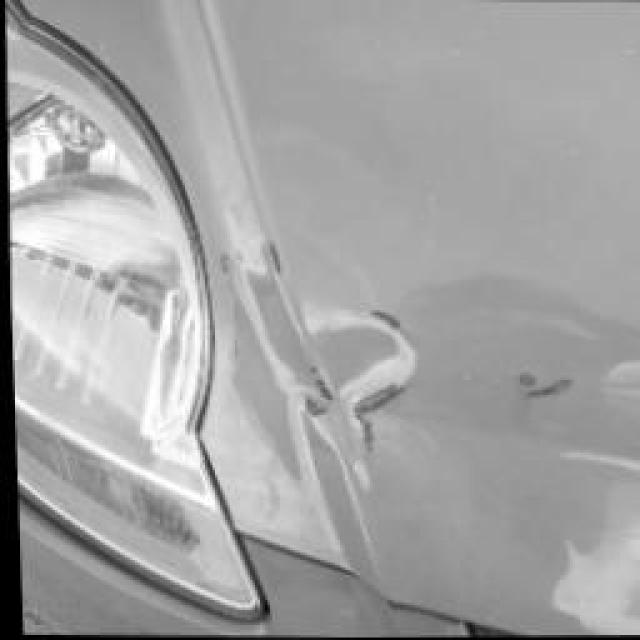Bonnet: (198, 140, 516, 537)
